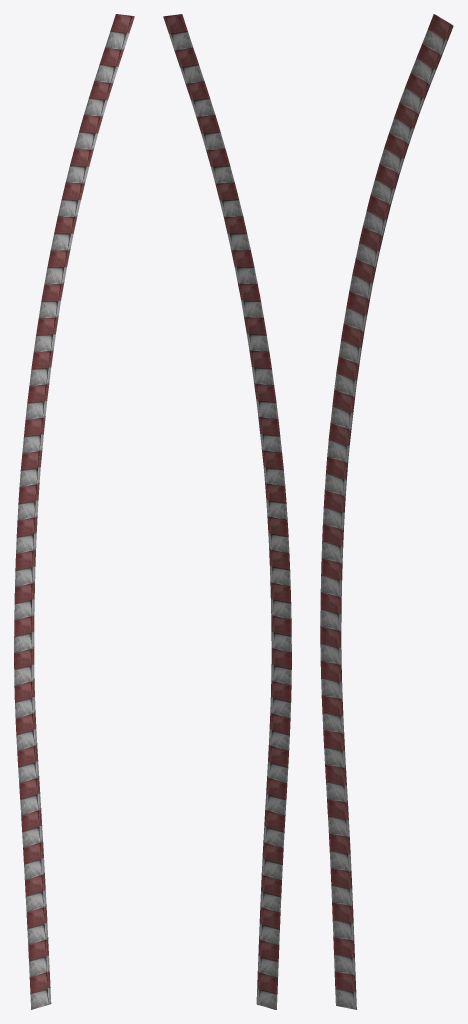
File: _1KERB_01_10.obj
3 renders of one model, left to right at view 1: azimuth 30°, elevation 25°; view 2: azimuth 150°, elevation 25°; view 3: azimuth 330°, elevation 25°, orthographic. The views are drawn at different scales.
Parts seen in each view (by area): view 1: _1KERB_01_10_Scene.236; view 2: _1KERB_01_10_Scene.236; view 3: _1KERB_01_10_Scene.236.
Boxes of the visible parts, bbox=[...] form: _1KERB_01_10_Scene.236: bbox=[14, 14, 134, 1009]; _1KERB_01_10_Scene.236: bbox=[163, 14, 291, 1009]; _1KERB_01_10_Scene.236: bbox=[320, 14, 453, 1009].
Size of the model in its own units: 796 by 5937 by 56.51.
